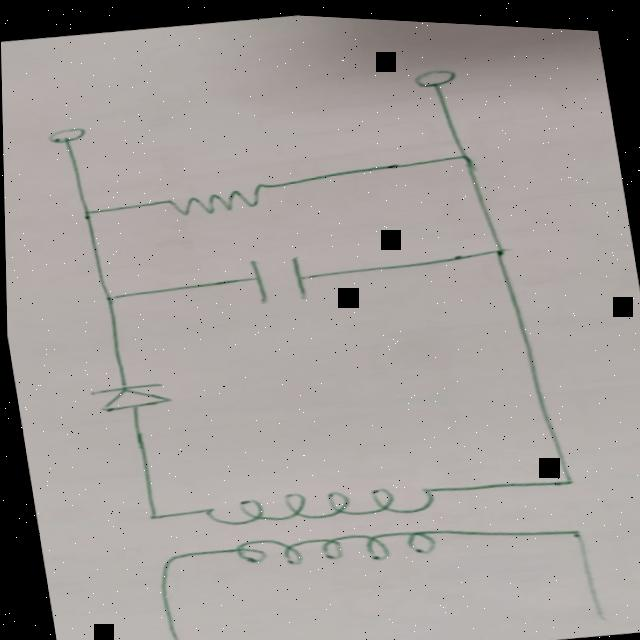capacitor: (242, 249, 315, 305)
diode: (85, 376, 171, 419)
junction: (146, 548, 188, 569), (542, 466, 582, 487), (443, 142, 480, 164), (555, 518, 588, 537), (480, 239, 515, 255), (135, 507, 167, 524), (90, 291, 123, 304), (74, 208, 95, 220)
resistor: (145, 170, 283, 225)
terminal: (38, 124, 89, 150), (409, 63, 457, 89), (581, 601, 617, 621), (158, 632, 194, 640)
transformer: (194, 466, 452, 584)
